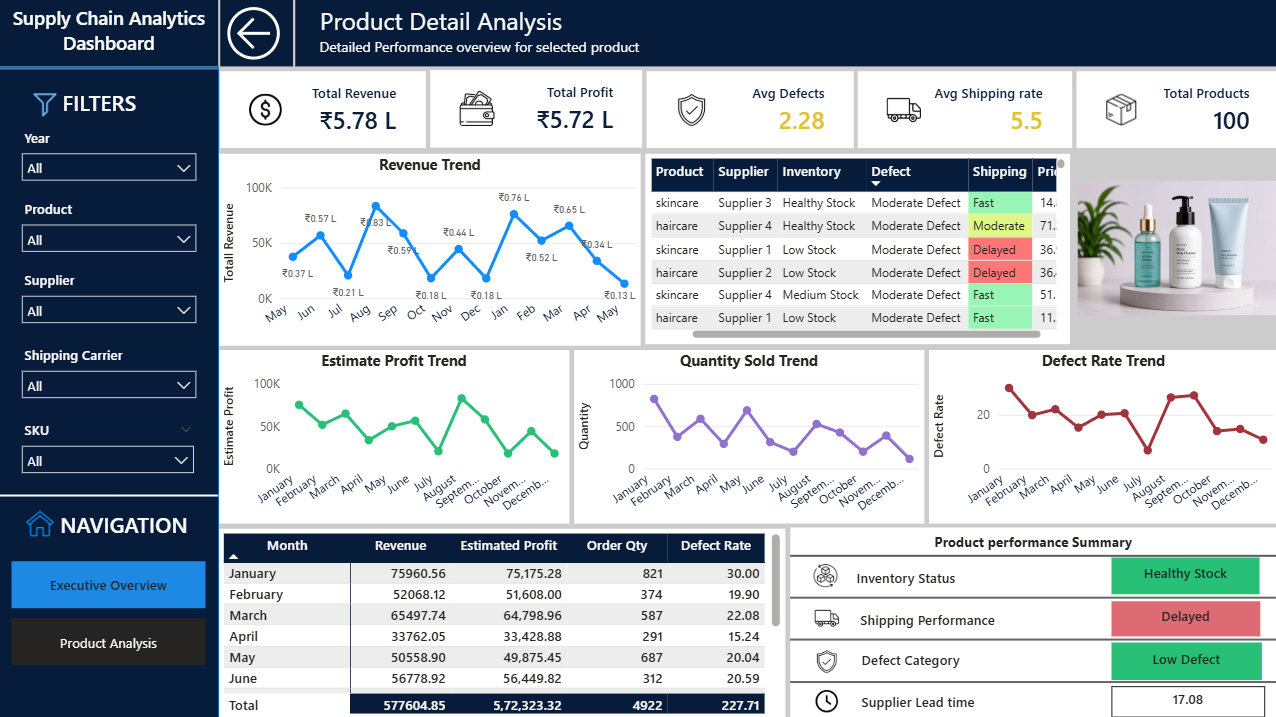

The page's visual inventory and layout, read from the dashboard file:
{"tool":"powerbi","page":{"name":"Product Analysis","canvas":[1280,720],"ordinal":1},"visuals":[{"type":"actionButton","box":[221.7,0,73,66.7],"z":0},{"type":"textbox","box":[791.2,527.5,486.3,192.5],"z":0,"group":"g1"},{"type":"shape","box":[0,68.8,220,650],"z":1000},{"type":"image","box":[802.2,562.6,48.1,26.6],"z":1000,"group":"g1"},{"type":"textbox","box":[0,0,219.6,66],"z":2000},{"type":"textbox","box":[852.6,563.8,152.7,32],"z":2000,"group":"g1"},{"type":"textbox","box":[46.7,82.3,108.4,39.8],"z":3000,"group":"g3"},{"type":"slicer","fields":{"Values":["final_dashboard.fiscal_year"]},"box":[12.5,123.8,195,70],"z":3000},{"type":"card","fields":{"Values":["Min(final_dashboard.inventory_status)"]},"box":[1112.9,557.5,148.3,36.7],"z":3000,"group":"g1"},{"type":"slicer","fields":{"Values":["final_dashboard.product_type"]},"box":[12.3,194.8,194.9,70],"z":4000},{"type":"shape","box":[791.5,589.4,485.7,15.4],"z":4000,"group":"g1"},{"type":"slicer","fields":{"Values":["final_dashboard.supplier_name"]},"box":[12.3,266.1,194.9,74.1],"z":5000},{"type":"textbox","box":[855.7,606.1,183.3,29.4],"z":5000,"group":"g1"},{"type":"textbox","box":[296.7,0,981.7,66.7],"z":6000},{"type":"shape","box":[791.5,631.7,487.2,16.6],"z":6000,"group":"g1"},{"type":"slicer","fields":{"Values":["final_dashboard.shipping_carrier"]},"box":[12.5,341.2,195,73.8],"z":7000},{"type":"shape","box":[791.5,675.2,487.2,14.1],"z":7000,"group":"g1"},{"type":"lineChart","title":"Revenue Trend","fields":{"Y":["final_dashboard.Totall Revenue"],"Category":["final_dashboard.Month_Year"]},"box":[220,153.3,421.7,191.7],"z":8000},{"type":"shape","box":[791.5,547.2,487.2,16.6],"z":8000,"group":"g1"},{"type":"tableEx","fields":{"Values":["final_dashboard.SKU","final_dashboard.product_type","final_dashboard.supplier_name","final_dashboard.inventory_status","final_dashboard.defect_category","final_dashboard.shipping_performance","Sum(final_dashboard.price)"]},"box":[646.7,153.3,425,190],"z":9000},{"type":"image","box":[803.6,606.2,48.1,23.9],"z":9000,"group":"g1"},{"type":"image","box":[1078.3,0,201.7,496.7],"z":10000},{"type":"image","box":[803.6,649.7,48.1,23.6],"z":10000,"group":"g1"},{"type":"lineChart","title":"Estimate Profit Trend","fields":{"Category":["final_dashboard.month_name"],"Y":["Sum(final_dashboard.estimated_profit)"]},"box":[220,350,350,173.8],"z":11000},{"type":"card","fields":{"Values":["Min(final_dashboard.shipping_performance)"]},"box":[1112.4,601.3,148.8,35],"z":11000,"group":"g1"},{"type":"lineChart","title":"Quantity Sold Trend","fields":{"Y":["Sum(final_dashboard.order_qty)"],"Category":["final_dashboard.month_name"]},"box":[575,350,350,173.8],"z":12000},{"type":"textbox","box":[857.2,645.8,160.4,30.7],"z":12000,"group":"g1"},{"type":"lineChart","title":"Defect Rate Trend","fields":{"Category":["final_dashboard.month_name"],"Y":["Sum(final_dashboard.defect_rate)"]},"box":[930,350,348.8,173.8],"z":13000},{"type":"image","box":[803.6,690.5,48.1,22.5],"z":13000,"group":"g1"},{"type":"pivotTable","fields":{"Rows":["final_dashboard.month_name"],"Values":["Sum(final_dashboard.revenue)","Sum(final_dashboard.estimated_profit)","Sum(final_dashboard.order_qty)","Sum(final_dashboard.defect_rate)"]},"box":[220,528.8,566.2,190],"z":14000},{"type":"textbox","box":[857.2,687.6,160.9,32.4],"z":14000,"group":"g1"},{"type":"slicer","fields":{"Values":["final_dashboard.SKU"]},"box":[12.5,416.2,192.5,73.8],"z":15000},{"type":"card","fields":{"Values":["Min(final_dashboard.defect_category)"]},"box":[1112.4,642.5,150,37.5],"z":15000,"group":"g1"},{"type":"group","id":"g1","title":"Group 1","box":[791.2,527.5,487.5,192.5],"z":16000},{"type":"card","fields":{"Values":["Avg(final_dashboard.supplier_lead_time)"]},"box":[1112.4,686.3,153.8,31.2],"z":16000,"group":"g1"},{"type":"group","id":"g2","title":"Group 2","box":[24.7,505.5,188,50.8],"z":17000},{"type":"shape","box":[0,483,219.6,26.1],"z":18000},{"type":"pageNavigator","box":[12.3,561.2,194.9,104.3],"z":19000},{"type":"group","id":"g3","title":"Group 1","box":[30.2,82.3,124.9,39.8],"z":20000},{"type":"cardVisual","fields":{"Data":["final_dashboard.Total revenue"]},"box":[220.9,71.4,205.8,77],"z":21000},{"type":"cardVisual","fields":{"Data":["final_dashboard.Total Profit"]},"box":[431.8,70,212,77.5],"z":22000},{"type":"cardVisual","fields":{"Data":["final_dashboard.Avg Defect Products"]},"box":[646.9,71.2,207,77],"z":23000},{"type":"cardVisual","fields":{"Data":["final_dashboard.Total Products"]},"box":[1078,71.4,202,77],"z":24000},{"type":"cardVisual","fields":{"Data":["final_dashboard.Avg Shipping rate"]},"box":[858.9,71.2,214,77],"z":25000},{"type":"shape","box":[0,36.2,220,62.5],"z":26000},{"type":"textbox","box":[56.3,505.5,156.4,50.8],"z":28000,"group":"g2"},{"type":"image","box":[24.7,511,31.6,27.4],"z":31000,"group":"g2"},{"type":"image","box":[30.2,90.5,31.6,27.4],"z":32000,"group":"g3"}]}

Visuals, with their boxes in screenshot pixels (x1, y1, x2, y2), scaled from the page's 1280x720 canvas onto the 1276x717 screenshot:
actionButton: 221/0/294/66
textbox: 789/525/1274/716
shape: 0/69/219/716
image: 800/560/848/587
textbox: 0/0/219/66
textbox: 850/561/1002/593
textbox: 47/82/155/122
slicer - final_dashboard.fiscal_year: 12/123/207/193
card - Min(final_dashboard.inventory_status): 1109/555/1257/592
slicer - final_dashboard.product_type: 12/194/207/264
shape: 789/587/1273/602
slicer - final_dashboard.supplier_name: 12/265/207/339
textbox: 853/604/1036/633
textbox: 296/0/1274/66
shape: 789/629/1275/646
slicer - final_dashboard.shipping_carrier: 12/340/207/413
shape: 789/672/1275/686
"Revenue Trend" lineChart: 219/153/640/344
shape: 789/545/1275/561
tableEx - final_dashboard.SKU x final_dashboard.product_type: 645/153/1068/342
image: 801/604/849/627
image: 1075/0/1275/495
image: 801/647/849/670
"Estimate Profit Trend" lineChart: 219/349/568/522
card - Min(final_dashboard.shipping_performance): 1109/599/1257/634
"Quantity Sold Trend" lineChart: 573/349/922/522
textbox: 855/643/1014/674
"Defect Rate Trend" lineChart: 927/349/1275/522
image: 801/688/849/710
pivotTable - final_dashboard.month_name x Sum(final_dashboard.revenue): 219/527/784/716
textbox: 855/685/1015/716
slicer - final_dashboard.SKU: 12/414/204/488
card - Min(final_dashboard.defect_category): 1109/640/1258/677
"Group 1" group: 789/525/1275/716
card - Avg(final_dashboard.supplier_lead_time): 1109/683/1262/715
"Group 2" group: 25/503/212/554
shape: 0/481/219/507
pageNavigator: 12/559/207/663
"Group 1" group: 30/82/155/122
cardVisual - final_dashboard.Total revenue: 220/71/425/148
cardVisual - final_dashboard.Total Profit: 430/70/642/147
cardVisual - final_dashboard.Avg Defect Products: 645/71/851/148
cardVisual - final_dashboard.Total Products: 1075/71/1275/148
cardVisual - final_dashboard.Avg Shipping rate: 856/71/1070/148
shape: 0/36/219/98
textbox: 56/503/212/554
image: 25/509/56/536
image: 30/90/62/117
